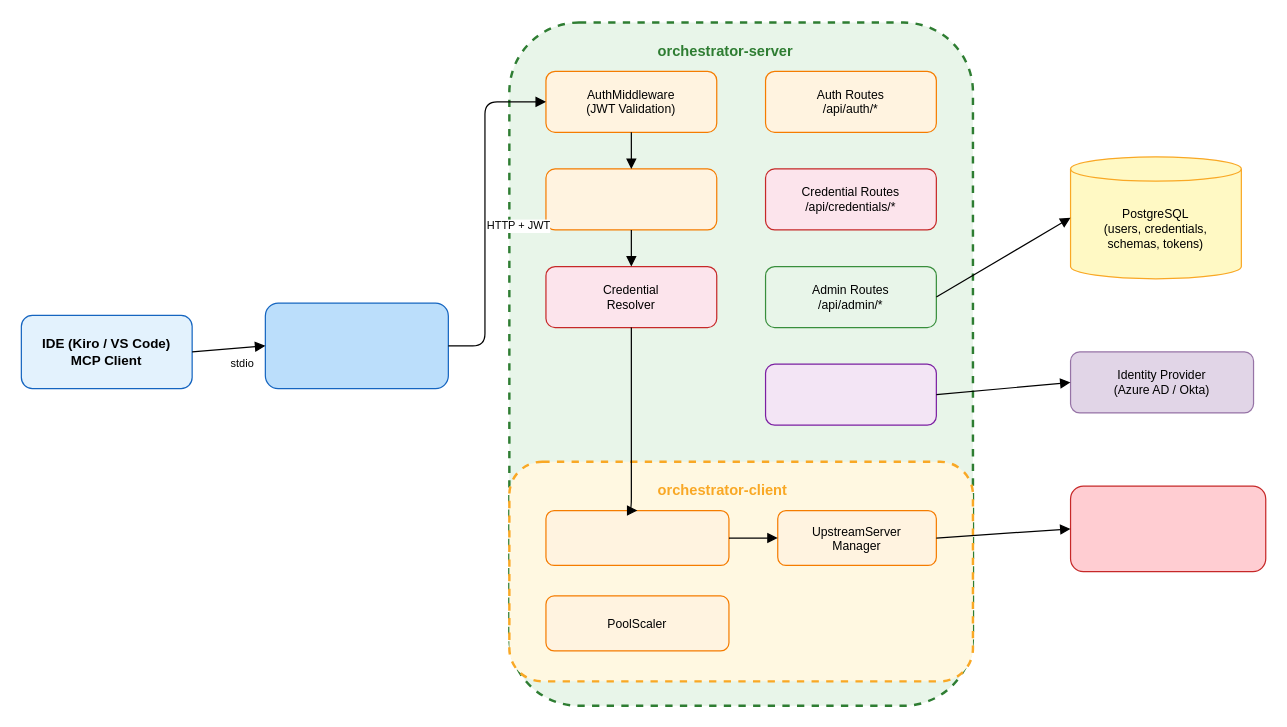
The diagram is 1287 pixels wide and 727 high, and some of its shapes have lost their labels. The centre of each missing label's shape, as x and y in pixels:
"orchestrator-bridge (BridgeServer) stdio ↔ HTTP" goes at [356,345].
"ProcessPoolManager" goes at [637,537].
"SSO Service OAuth2/OIDC" goes at [850,394].
"ToolExecution Dispatcher" goes at [631,199].
"Upstream MCP Servers (Jira, GitHub, etc.) Process Pool" goes at [1167,528].
